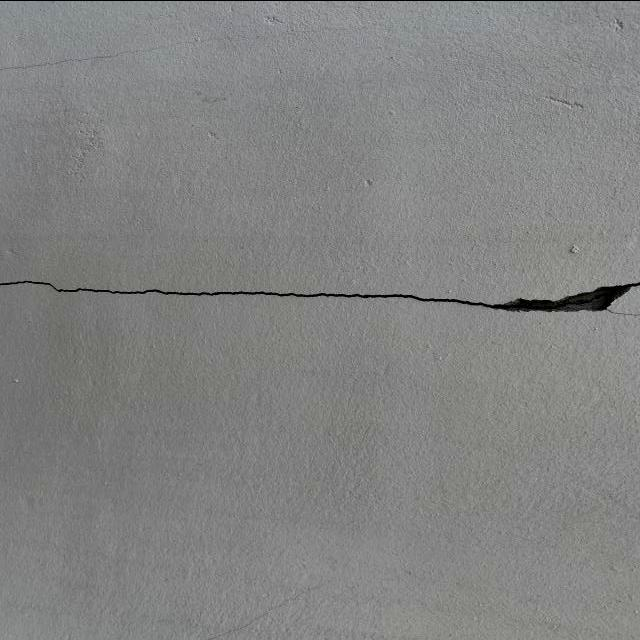SurfaceCrack: (1, 230, 640, 364)
